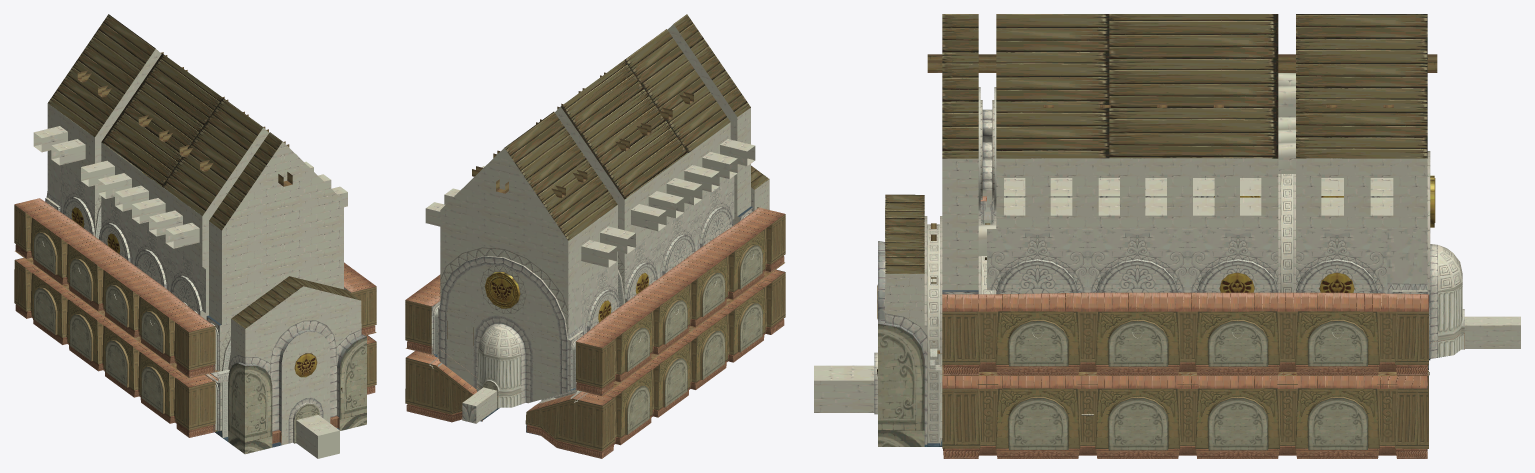
Rendered from zelda_castle.glb.
3 views of the same model, side by side, from view 1: azimuth 30°, elevation 25°; view 2: azimuth 150°, elevation 25°; view 3: azimuth 270°, elevation 25° (orthographic). The views are drawn at different scales.
Visible parts, largest first — view 1: Object_3, Object_19, Object_5, Object_28, Object_8, Object_6, Object_18, Object_15, Object_20, Object_10, Object_17, Object_13 (+2 smaller); view 2: Object_3, Object_19, Object_28, Object_18, Object_8, Object_6, Object_5, Object_15, Object_13, Object_7, Object_17, Object_20 (+3 smaller); view 3: Object_19, Object_3, Object_6, Object_5, Object_8, Object_28, Object_18, Object_13, Object_15, Object_7, Object_17, Object_20 (+3 smaller).
Part boxes in pixels (bbox=[...]): Object_3: bbox=[33, 49, 361, 458]; Object_19: bbox=[48, 14, 360, 365]; Object_5: bbox=[34, 232, 366, 454]; Object_28: bbox=[14, 198, 376, 444]; Object_8: bbox=[45, 154, 350, 389]; Object_6: bbox=[25, 213, 182, 416]; Object_18: bbox=[14, 198, 376, 430]; Object_15: bbox=[46, 130, 366, 443]; Object_20: bbox=[77, 52, 342, 392]; Object_10: bbox=[95, 169, 230, 437]; Object_17: bbox=[71, 172, 317, 377]; Object_13: bbox=[46, 126, 262, 436]; Object_3: bbox=[425, 24, 769, 423]; Object_19: bbox=[504, 14, 768, 240]; Object_28: bbox=[406, 207, 784, 458]; Object_18: bbox=[405, 207, 785, 451]; Object_8: bbox=[431, 145, 753, 423]; Object_6: bbox=[607, 224, 772, 437]; Object_5: bbox=[482, 245, 762, 434]; Object_15: bbox=[438, 209, 769, 404]; Object_13: bbox=[440, 140, 705, 403]; Object_7: bbox=[477, 349, 521, 408]; Object_17: bbox=[447, 272, 648, 372]; Object_20: bbox=[472, 72, 693, 197]; Object_19: bbox=[885, 14, 1427, 342]; Object_3: bbox=[814, 73, 1520, 412]; Object_6: bbox=[977, 311, 1397, 448]; Object_5: bbox=[878, 321, 1367, 450]; Object_8: bbox=[942, 158, 1442, 295]; Object_28: bbox=[874, 196, 1464, 458]; Object_18: bbox=[942, 311, 1428, 448]; Object_13: bbox=[924, 100, 1462, 443]; Object_15: bbox=[874, 109, 1437, 444]; Object_7: bbox=[1438, 282, 1464, 357]; Object_17: bbox=[877, 175, 1435, 319]; Object_20: bbox=[877, 54, 1437, 375].
Size of the model in its own units: 4371 by 6125 by 9979.
Materials: 32 (32 with a texture image).
